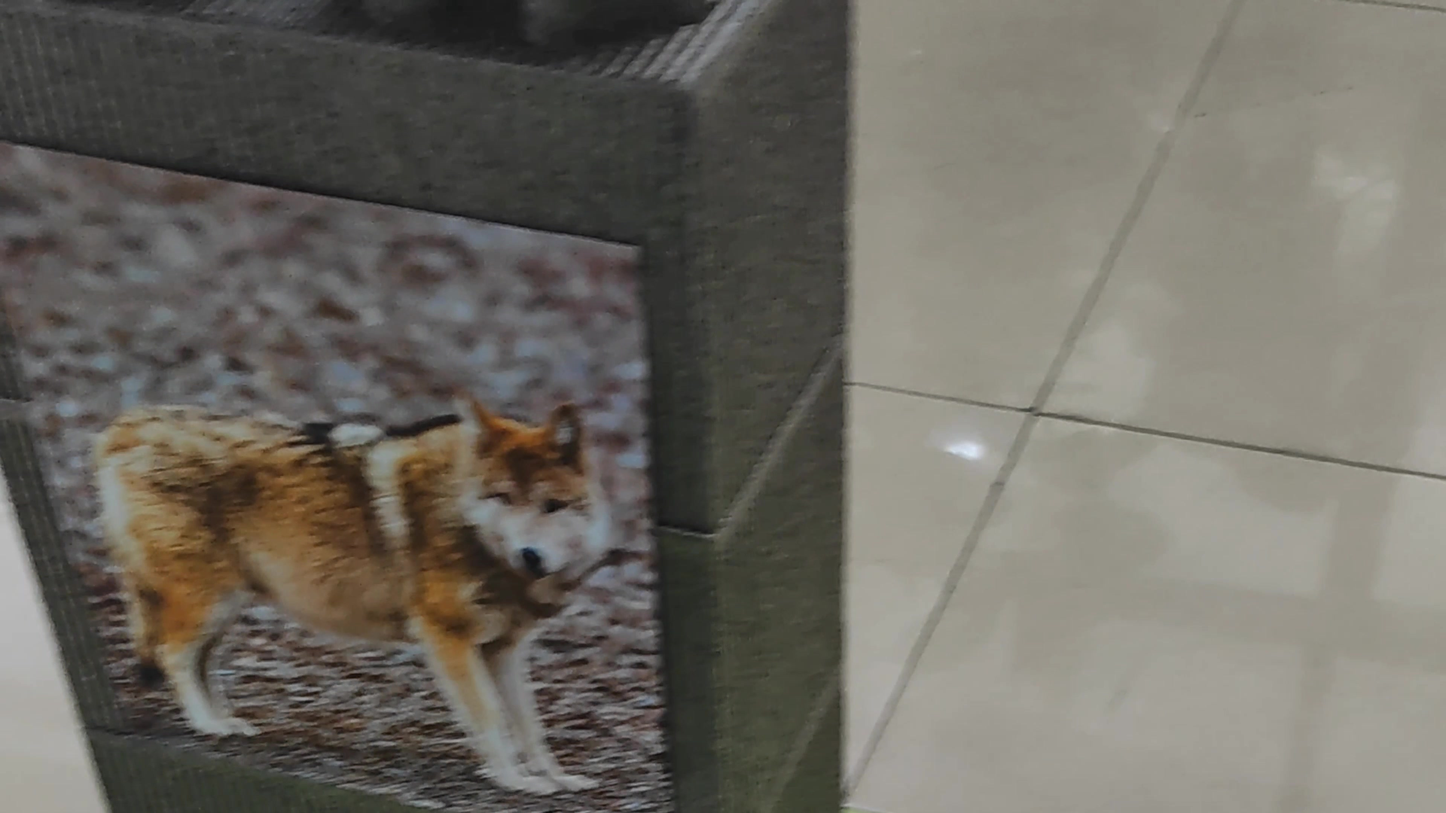wolf: (76, 386, 628, 795)
